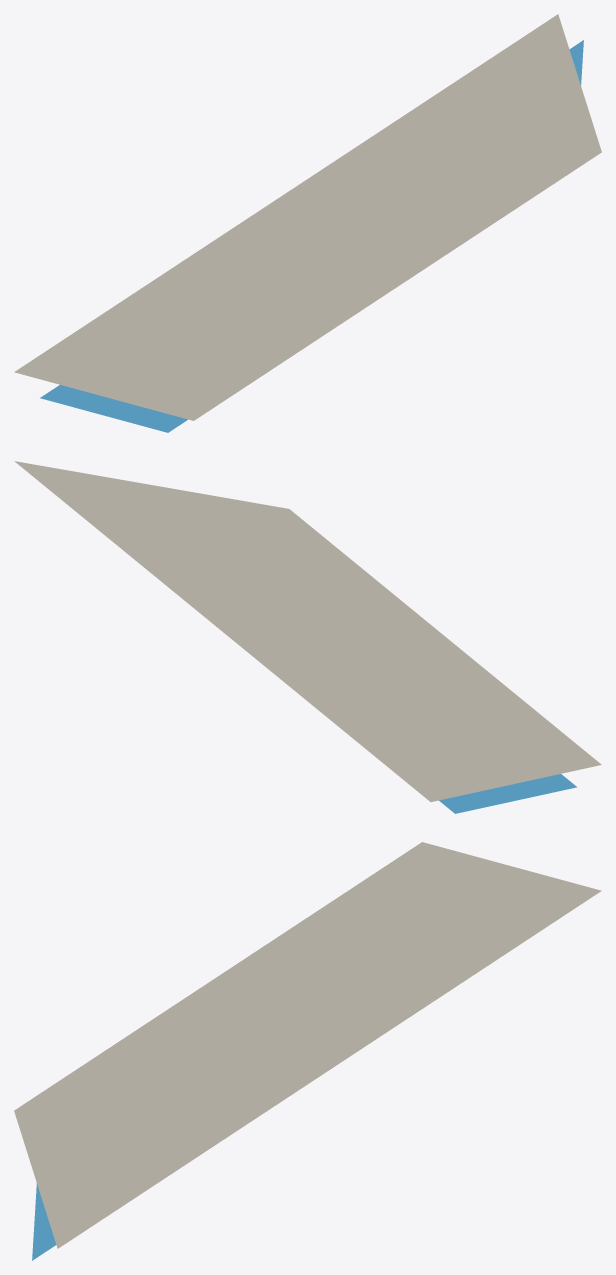
The picture shows the model from 3 angles, top to bottom: view 1: azimuth 90°, elevation 25°; view 2: azimuth 150°, elevation 25°; view 3: azimuth 270°, elevation 25°; orthographic projection. The views are drawn at different scales.
Parts seen in each view (by area): view 1: estructura_terreno, estructura_agua; view 2: estructura_terreno, estructura_agua; view 3: estructura_terreno, estructura_agua.
Part boxes in pixels (x1,y1,x2,y2): estructura_terreno: [14, 14, 601, 420]; estructura_agua: [40, 40, 583, 432]; estructura_terreno: [14, 461, 601, 801]; estructura_agua: [439, 774, 576, 813]; estructura_terreno: [14, 842, 601, 1248]; estructura_agua: [32, 1183, 56, 1260].
Bounding box in the file's own units: 18.93 × 0.41 × 11.56.
